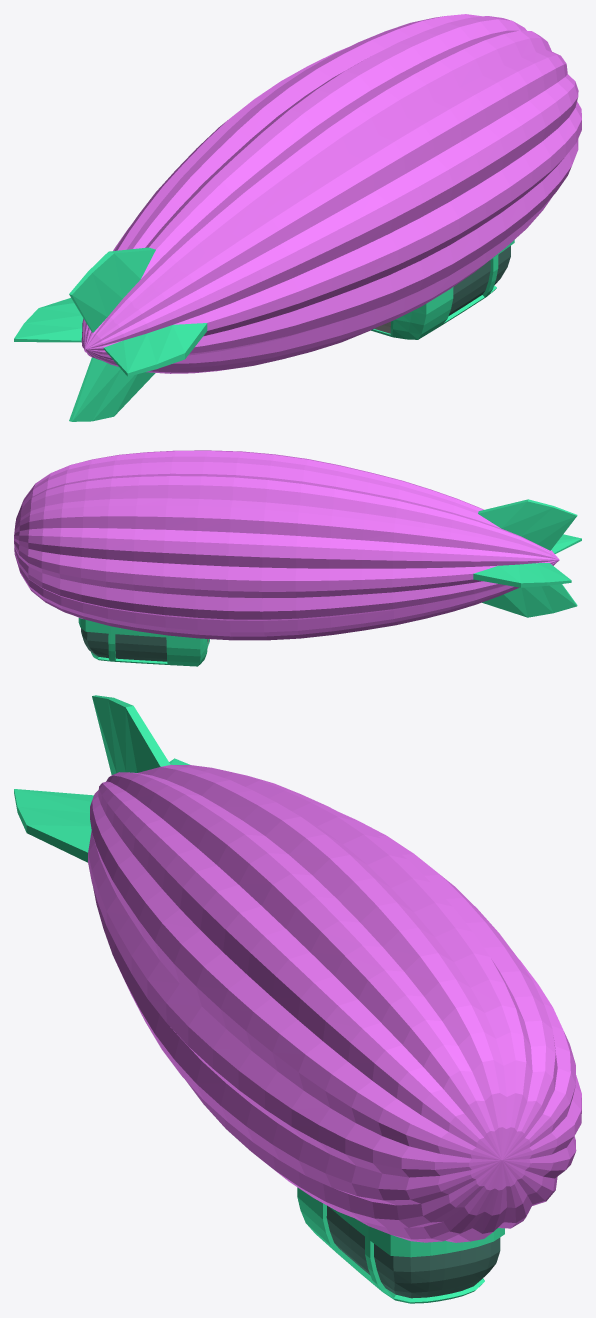
File: airship.glb
3 renders of one model, top to bottom at view 1: azimuth 30°, elevation 25°; view 2: azimuth 150°, elevation 25°; view 3: azimuth 270°, elevation 25°, orthographic. The views are drawn at different scales.
Parts seen in each view (by area): view 1: baloon, wings, cabin_1; view 2: baloon, wings, cabin_1; view 3: baloon, cabin_1, wings.
Part boxes in pixels (bbox=[...]): baloon: bbox=[81, 14, 581, 373]; wings: bbox=[14, 247, 207, 421]; cabin_1: bbox=[371, 240, 514, 339]; baloon: bbox=[14, 450, 559, 640]; wings: bbox=[473, 499, 581, 617]; cabin_1: bbox=[78, 618, 209, 666]; baloon: bbox=[88, 764, 581, 1242]; cabin_1: bbox=[297, 1187, 504, 1303]; wings: bbox=[14, 695, 189, 862].
Bounding box in the file's own units: 7.24 × 2.87 × 4.28.
